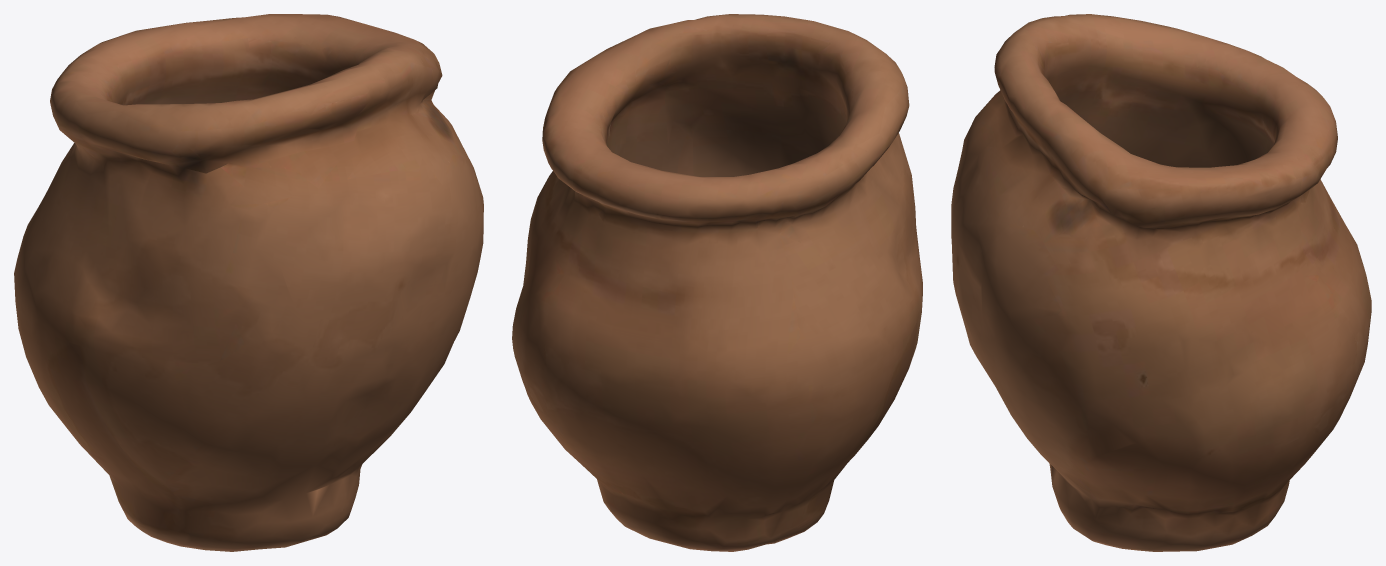
The model's file is PotSmall.glb.
3 renders of one model, left to right at view 1: azimuth 30°, elevation 25°; view 2: azimuth 150°, elevation 25°; view 3: azimuth 270°, elevation 25°, orthographic. The views are drawn at different scales.
Parts seen in each view (by area): view 1: PotSmall; view 2: PotSmall; view 3: PotSmall.
Part boxes in pixels (<box>): PotSmall: <box>14,14,483,551</box>; PotSmall: <box>512,14,922,551</box>; PotSmall: <box>951,14,1371,551</box>.
Bounding box in the file's own units: 0.2318 × 0.276 × 0.229.
1 material, 1 textured.
